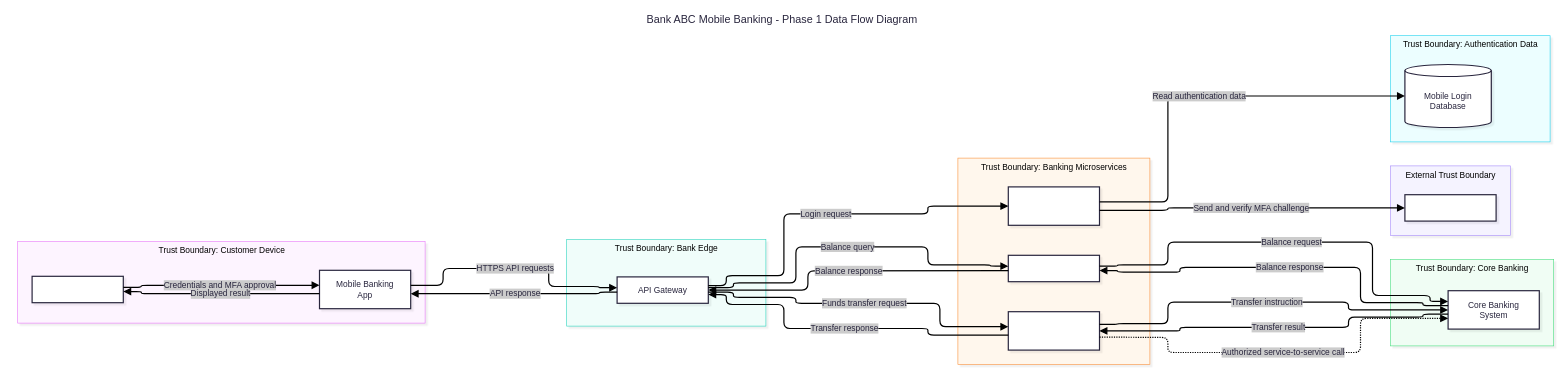
This 1567x377 diagram has some shape labels left out. Here are the shapes that lost their labels. From the top down, the centre of each, then its label:
At point (1054, 207): "Authentication Service".
At point (1451, 209): "MFA Provider".
At point (1054, 269): "Balance Service".
At point (78, 290): "Bank Customer".
At point (1054, 332): "Funds Transfer Service".
